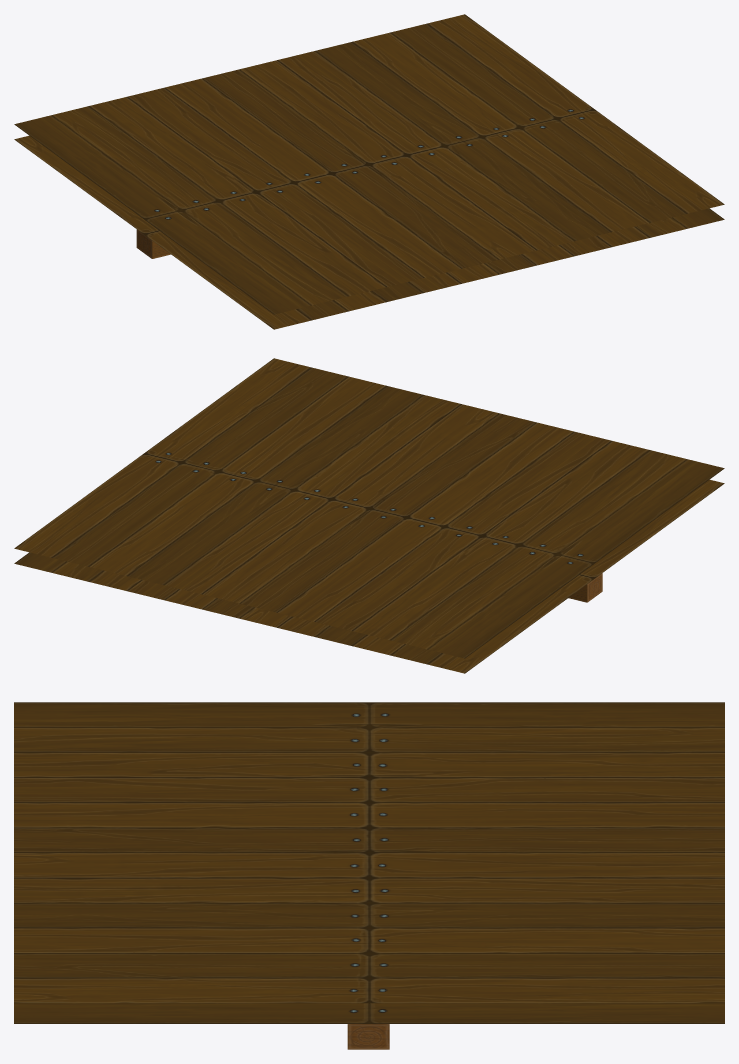
File: SM_House_Floor_5x4_01.fbx
3 renders of one model, top to bottom at view 1: azimuth 30°, elevation 25°; view 2: azimuth 150°, elevation 25°; view 3: azimuth 270°, elevation 25°, orthographic. The views are drawn at different scales.
Visible parts, largest first — view 1: SM_House_Floor_5x4_01; view 2: SM_House_Floor_5x4_01; view 3: SM_House_Floor_5x4_01.
Boxes of the visible parts, box(x1,y1,x2,y2) form: SM_House_Floor_5x4_01: box(14, 14, 724, 329); SM_House_Floor_5x4_01: box(14, 358, 724, 673); SM_House_Floor_5x4_01: box(14, 702, 724, 1049).
Bounding box in the file's own units: 5.01 × 0.3597 × 5.
